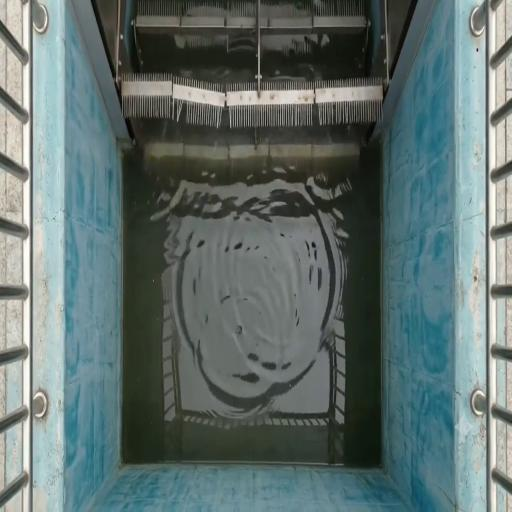rake_broken: (300, 91, 358, 132), (206, 92, 254, 138), (166, 90, 209, 132)
